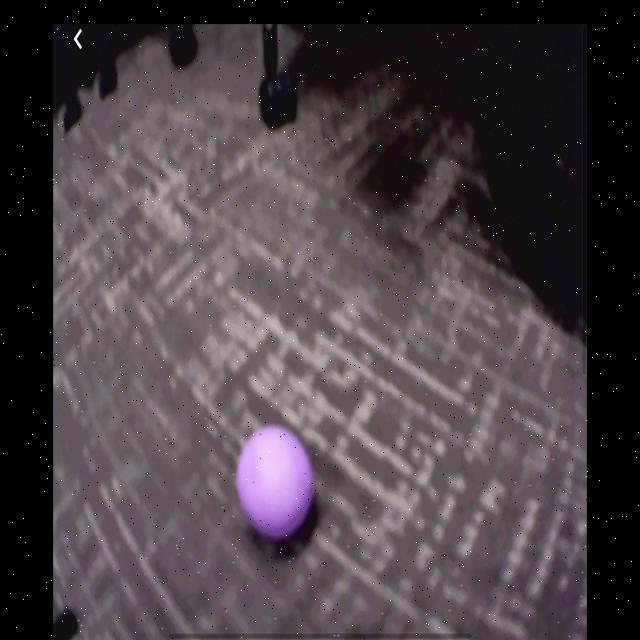ball: (235, 423, 316, 543)
